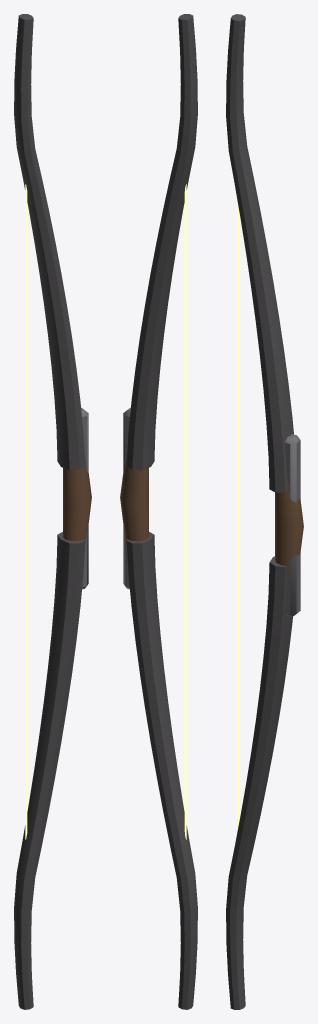
File: stormstring_greatbow.glb
3 views of the same model, side by side, from view 1: azimuth 30°, elevation 25°; view 2: azimuth 150°, elevation 25°; view 3: azimuth 330°, elevation 25° (orthographic).
Parts seen in each view (by area): view 1: stormstring_greatbow; view 2: stormstring_greatbow; view 3: stormstring_greatbow.
Part boxes in pixels (x1,y1,x2,y2): stormstring_greatbow: (14, 14, 91, 1009); stormstring_greatbow: (120, 14, 197, 1009); stormstring_greatbow: (226, 14, 303, 1009).
Bounding box in the file's own units: 0.1472 × 1.88 × 0.056.
